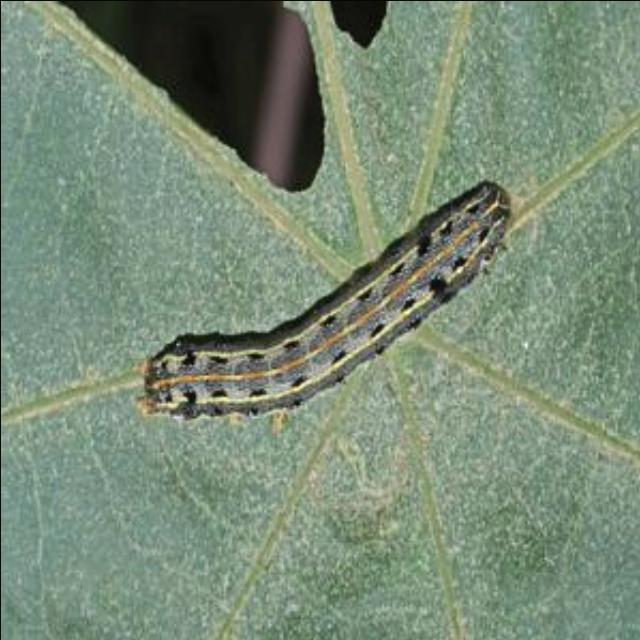Tobacco cutworm: (120, 142, 566, 462)
